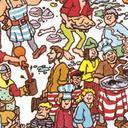waldo: (65, 65, 85, 89)
